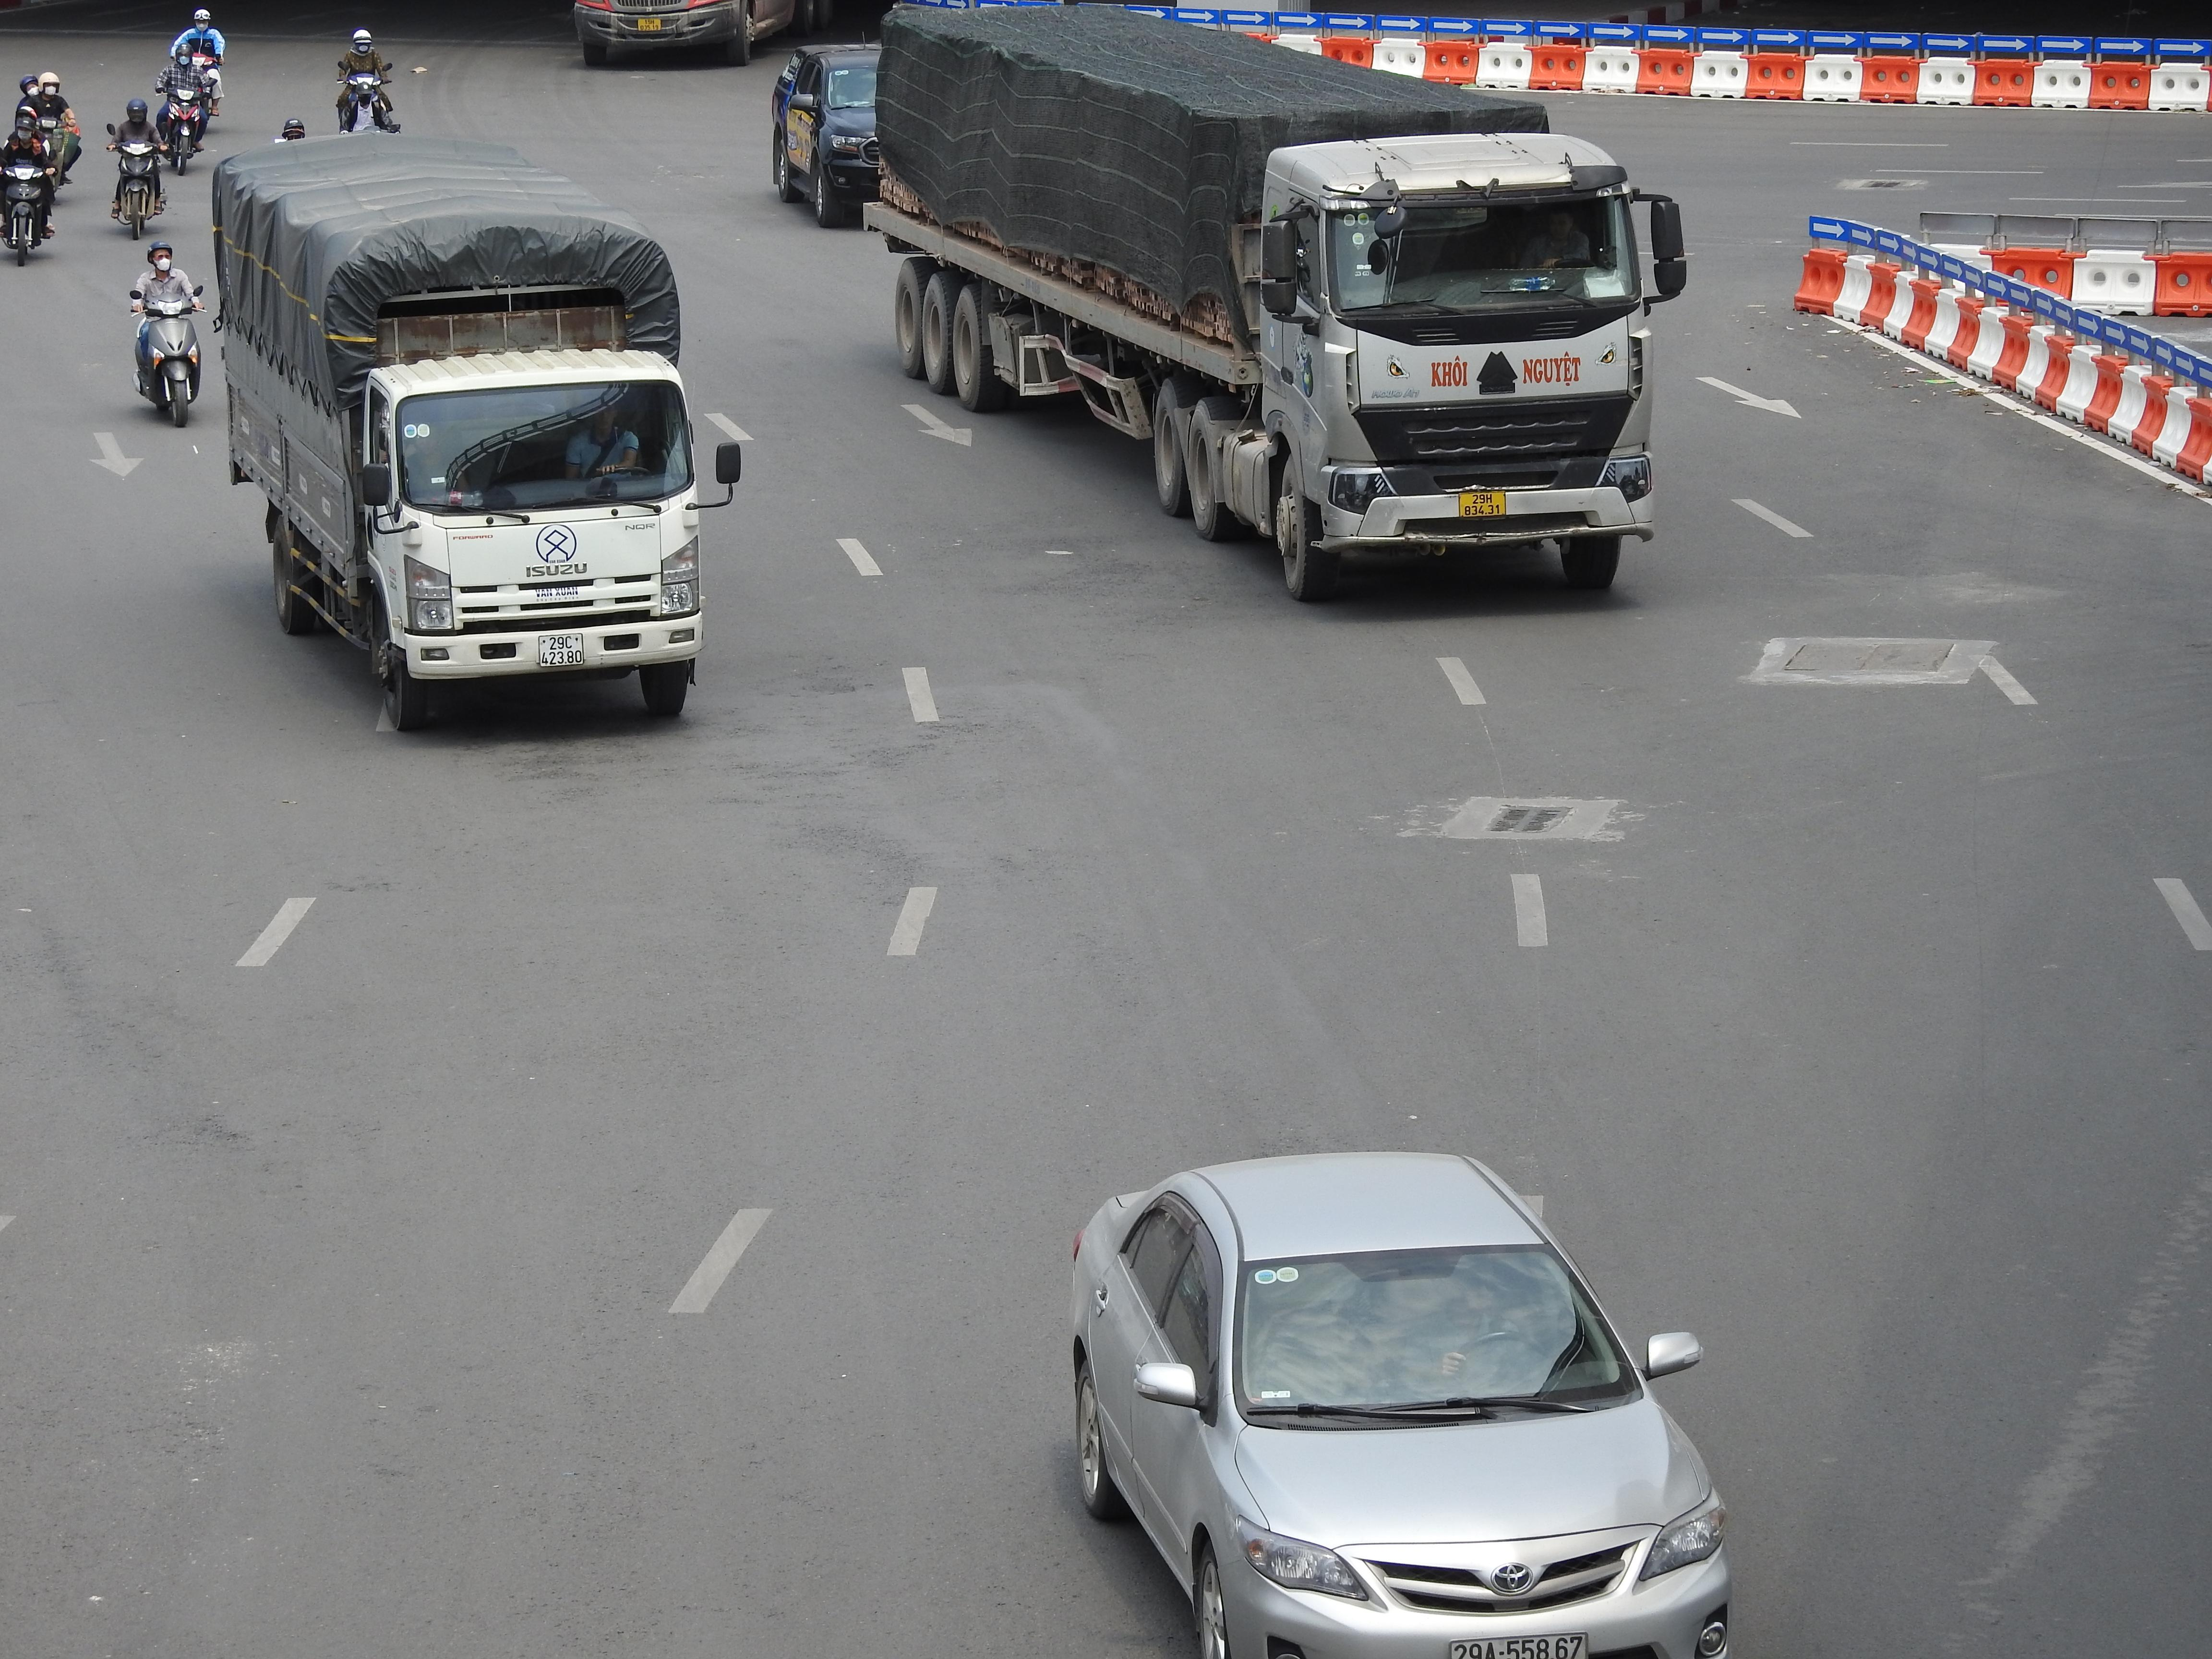BSD: (1447, 1633, 1590, 1659)
BSV: (540, 633, 585, 667), (1460, 490, 1507, 518), (637, 17, 662, 31)
car: (1062, 1147, 1738, 1659), (768, 42, 885, 228), (571, 0, 813, 68)
motorbike: (131, 240, 204, 429), (10, 70, 84, 192), (0, 113, 57, 265), (106, 96, 167, 239), (153, 44, 209, 176), (334, 26, 401, 134), (169, 5, 226, 122)
truck: (864, 2, 1689, 603), (211, 132, 744, 730)
